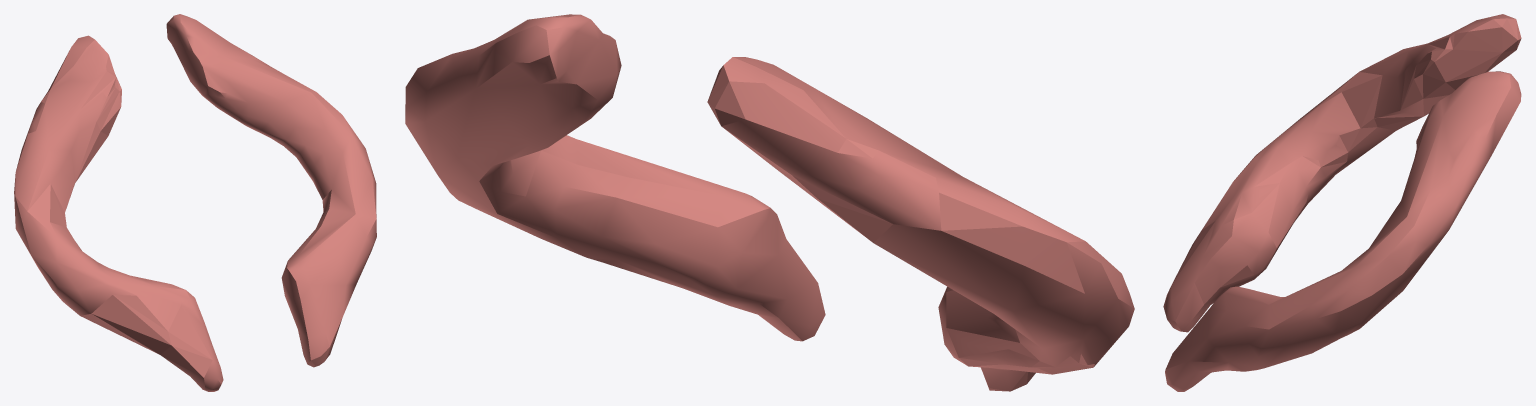
Rendered from fma21930_cx40.glb.
The picture shows the model from 3 angles, left to right: view 1: azimuth 30°, elevation 25°; view 2: azimuth 150°, elevation 25°; view 3: azimuth 270°, elevation 25°; orthographic projection. The views are drawn at different scales.
Visible parts, largest first — view 1: FMA21930_CX40; view 2: FMA21930_CX40; view 3: FMA21930_CX40.
Part boxes in pixels (<box>): FMA21930_CX40: <box>14,14,376,391</box>; FMA21930_CX40: <box>405,14,1134,391</box>; FMA21930_CX40: <box>1163,14,1521,391</box>.
Bounding box in the file's own units: 0.0294 × 0.0212 × 0.0217.
